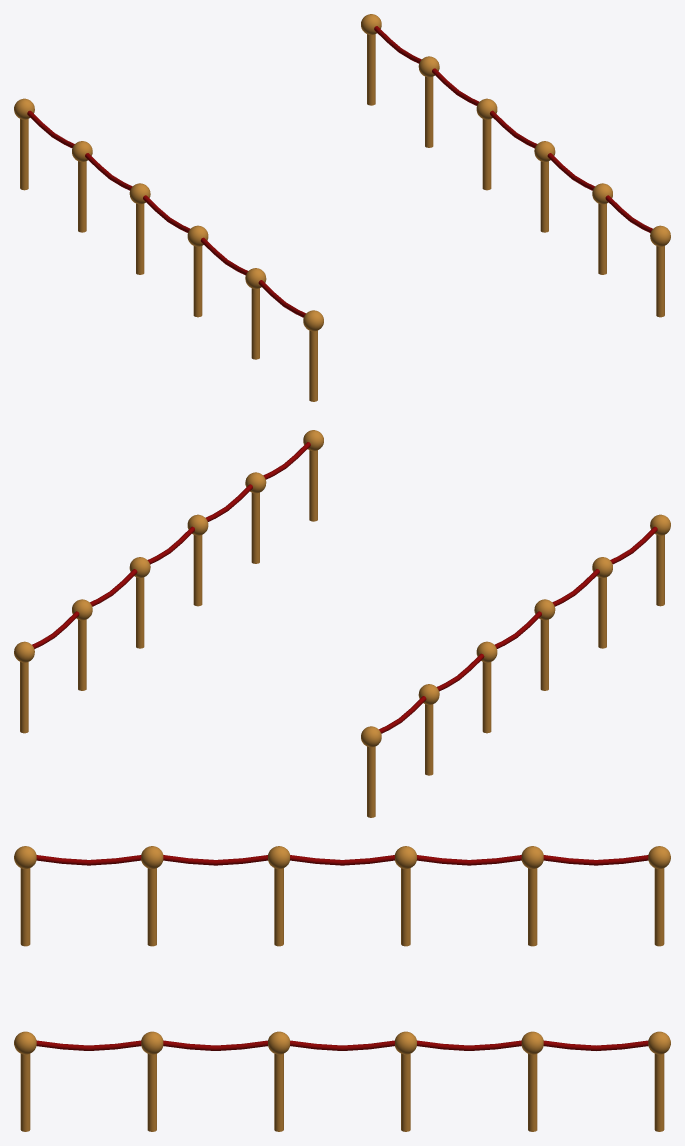
Rendered from Carpet_Side.fbx.
3 views of the same model, one above another, from view 1: azimuth 30°, elevation 25°; view 2: azimuth 150°, elevation 25°; view 3: azimuth 270°, elevation 25° (orthographic). The views are drawn at different scales.
Parts seen in each view (by area): view 1: Carpet_Side; view 2: Carpet_Side; view 3: Carpet_Side.
Part boxes in pixels (x1=…): Carpet_Side: x1=14, y1=14, x2=670, y2=401; Carpet_Side: x1=14, y1=430, x2=670, y2=817; Carpet_Side: x1=14, y1=846, x2=670, y2=1131.
Bounding box in the file's own units: 265 × 61.46 × 376.
